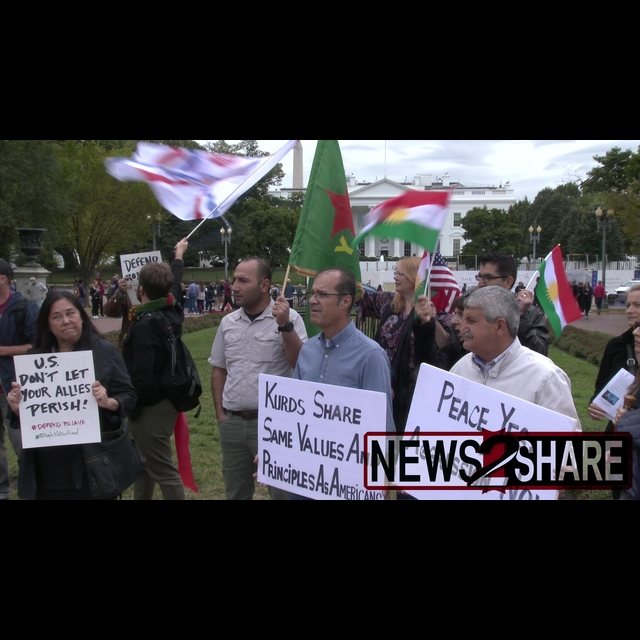IBKY: (360, 186, 463, 248), (534, 244, 587, 339)
